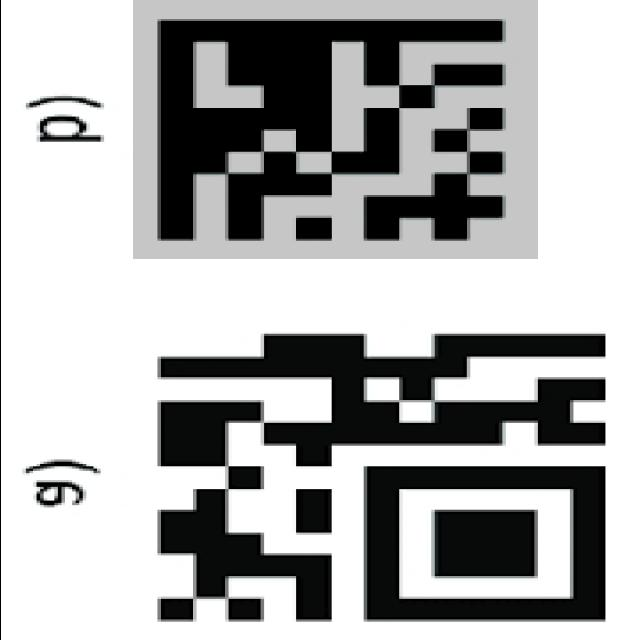DataMatrix: (132, 0, 537, 259)
